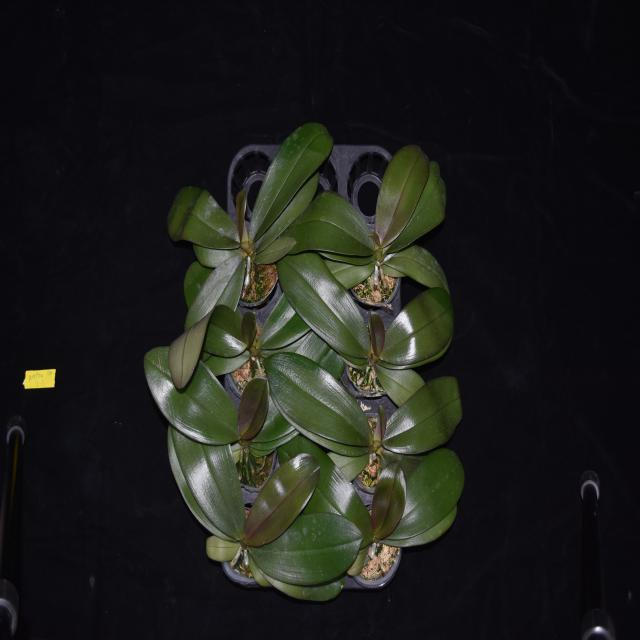leaf: (260, 352, 378, 458), (142, 343, 238, 452), (250, 118, 335, 240), (278, 437, 372, 547), (257, 260, 365, 355), (281, 248, 369, 356), (172, 425, 245, 535), (382, 448, 467, 540), (246, 516, 363, 582), (379, 374, 463, 459), (244, 454, 320, 544), (380, 289, 457, 372), (388, 156, 452, 254), (165, 305, 242, 386), (286, 196, 374, 260), (375, 145, 430, 247), (257, 169, 323, 247), (166, 428, 211, 540), (165, 186, 236, 249), (186, 253, 247, 324), (248, 558, 348, 600), (385, 238, 461, 290), (376, 507, 461, 548), (371, 458, 406, 546), (238, 374, 278, 442), (374, 360, 426, 406), (176, 259, 218, 305), (251, 228, 296, 267), (227, 188, 249, 247), (205, 532, 242, 565), (329, 451, 369, 479), (364, 310, 386, 357), (205, 352, 252, 374), (241, 307, 255, 353), (372, 404, 387, 446)
